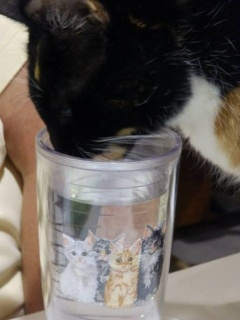Cat: (0, 0, 239, 183), (84, 228, 125, 305), (58, 230, 100, 302), (94, 238, 140, 300), (133, 225, 164, 306)
